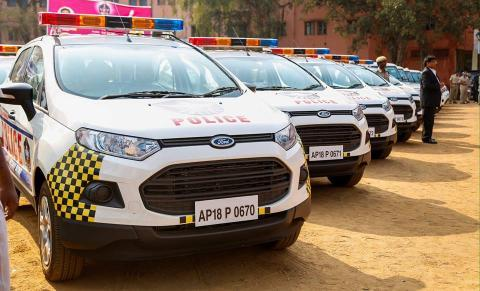Emergency-Vehicles: (0, 7, 307, 264), (206, 27, 363, 201), (287, 43, 396, 175), (336, 41, 427, 146)
